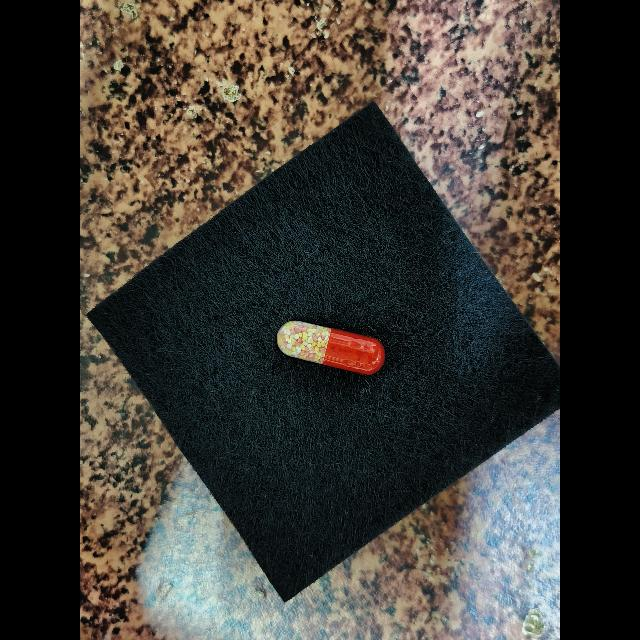Intact Capsule: (277, 320, 385, 375)
